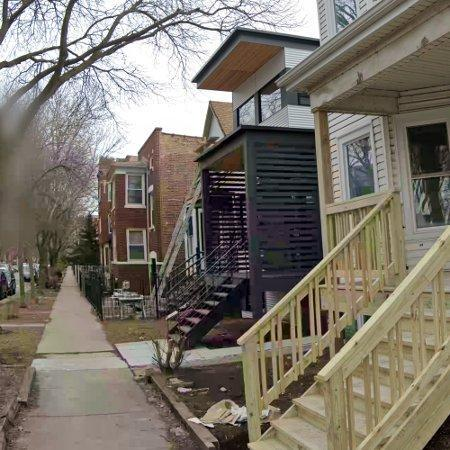stairs: (250, 228, 450, 450), (169, 279, 248, 348)
